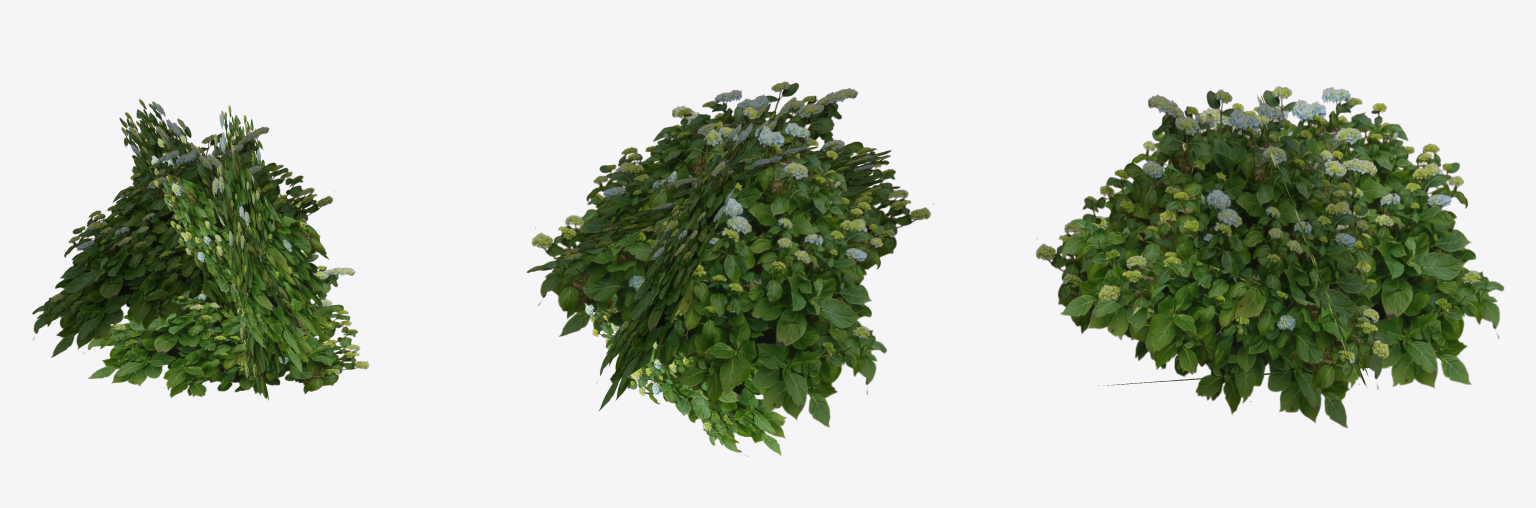
The model's file is trees_and_bush_pack_bush_flower_small.glb.
The picture shows the model from 3 angles, left to right: view 1: azimuth 30°, elevation 25°; view 2: azimuth 150°, elevation 25°; view 3: azimuth 270°, elevation 25°; orthographic projection. The views are drawn at different scales.
Parts seen in each view (by area): view 1: BushFlowerSmall; view 2: BushFlowerSmall; view 3: BushFlowerSmall.
Boxes of the visible parts, x1,y1,x2,y2 form: BushFlowerSmall: (32, 99, 369, 399); BushFlowerSmall: (526, 81, 933, 456); BushFlowerSmall: (1036, 86, 1504, 427).
Bounding box in the file's own units: 1.47 × 1.15 × 1.48.
1 material, 1 textured.
